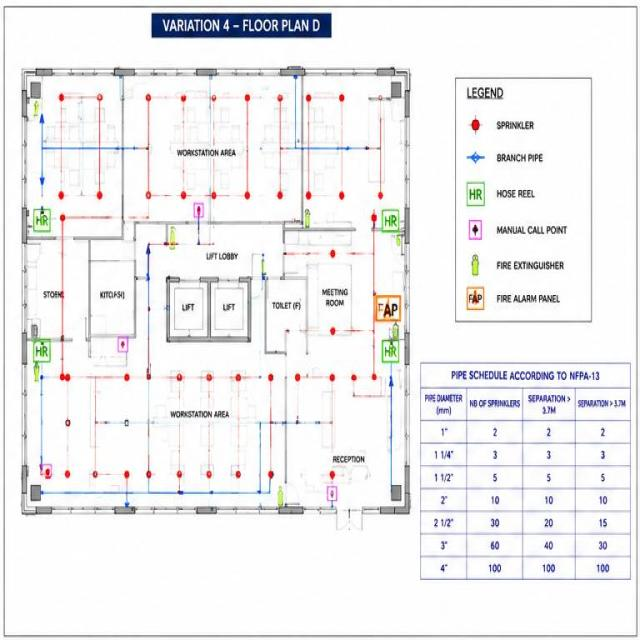branch_pipe: (50, 362, 390, 512), (51, 203, 171, 398), (132, 67, 264, 212), (55, 90, 120, 226), (280, 243, 380, 267), (63, 362, 74, 486), (286, 252, 368, 254)
fire_alarm_panel: (372, 294, 402, 326)
fire_extinguisher: (160, 218, 188, 255), (300, 200, 318, 234), (272, 486, 287, 508), (31, 364, 47, 384), (30, 100, 44, 121), (257, 249, 266, 278)
hose_reel: (31, 200, 56, 238), (29, 338, 54, 370), (381, 202, 402, 236), (380, 338, 398, 369)
manual_call_point: (186, 195, 210, 225), (112, 334, 137, 362), (324, 480, 342, 506)
sprinkler: (370, 204, 379, 226), (328, 326, 341, 341), (329, 468, 340, 482), (44, 466, 52, 482)
